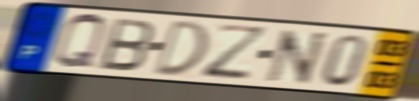0: (320, 33, 368, 88)
B: (97, 16, 157, 73)
D: (150, 18, 210, 78)
N: (264, 28, 331, 87)
Q: (51, 11, 108, 72)
Z: (199, 22, 271, 81)
